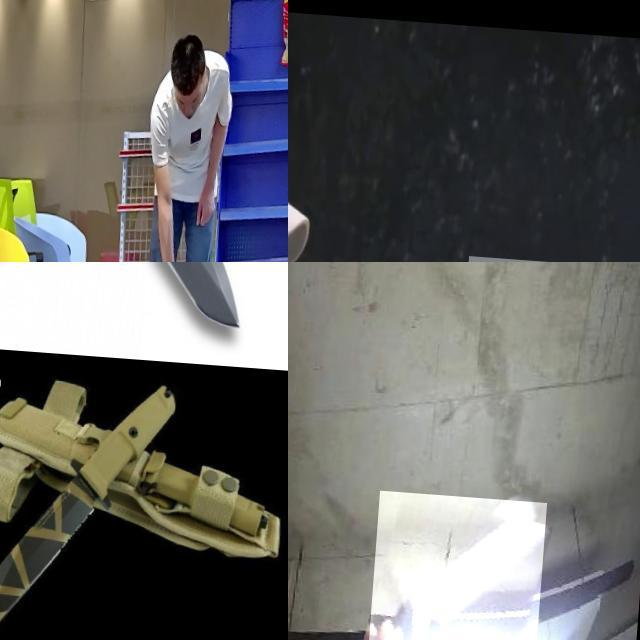-: (0, 318, 152, 640), (40, 262, 270, 397), (376, 485, 554, 640), (0, 262, 29, 342)
